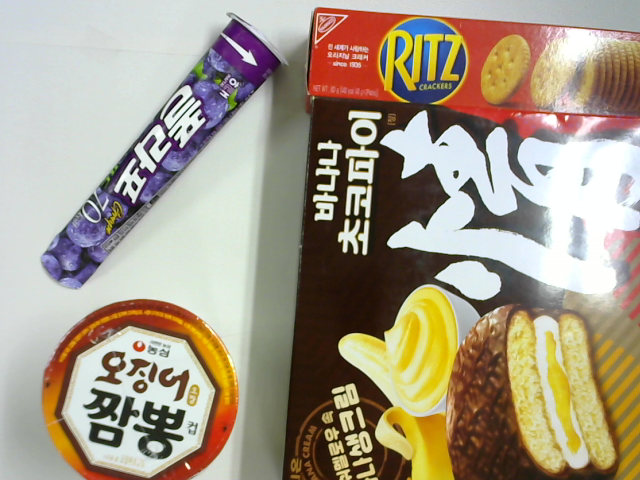Choco_Pie_Banana: (284, 101, 639, 480)
Ojjam: (46, 297, 239, 480)
Polapo_Grape: (41, 13, 289, 291)
Ritz_Cracker: (298, 6, 640, 111)
